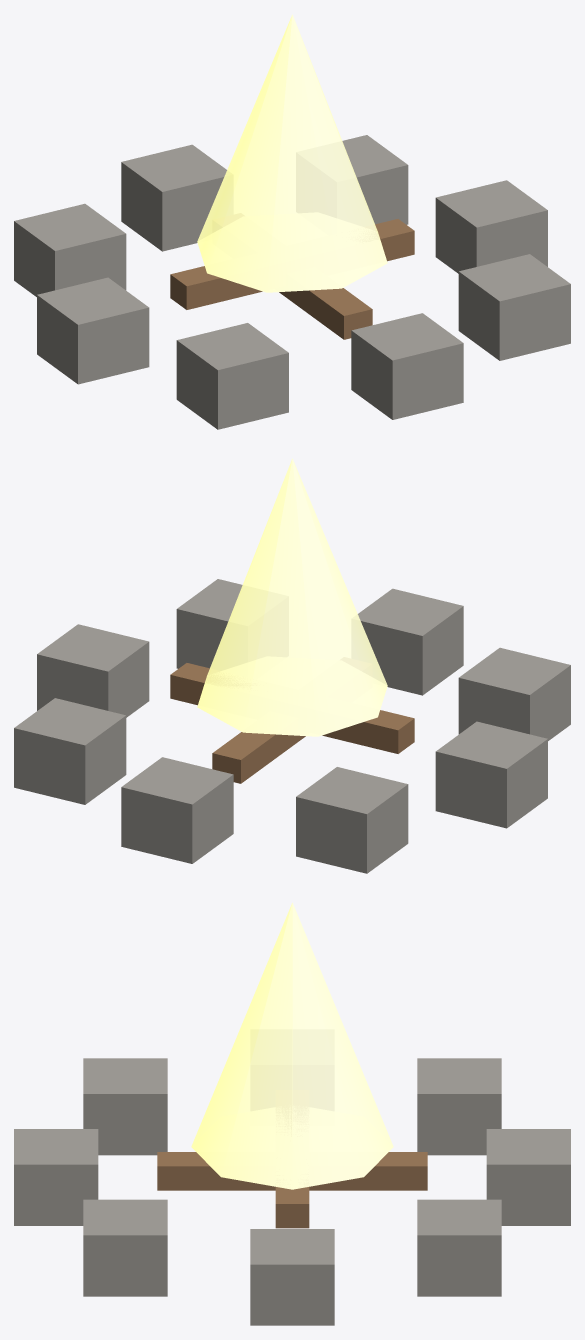
The model's file is campfire.glb.
The picture shows the model from 3 angles, top to bottom: view 1: azimuth 30°, elevation 25°; view 2: azimuth 150°, elevation 25°; view 3: azimuth 270°, elevation 25°; orthographic projection. The views are drawn at different scales.
Visible parts, largest first — view 1: part_10, part_2, part_4, part_1, part_3, part_6, part_0, part_5, part_7, part_9, part_8; view 2: part_10, part_4, part_6, part_7, part_5, part_2, part_0, part_3, part_1, part_9, part_8; view 3: part_10, part_1, part_7, part_0, part_3, part_5, part_2, part_6, part_8, part_9.
Part boxes in pixels (bbox=[...]): part_10: bbox=[197, 14, 387, 292]; part_2: bbox=[351, 313, 463, 419]; part_4: bbox=[37, 277, 149, 384]; part_1: bbox=[458, 254, 570, 360]; part_3: bbox=[176, 323, 288, 429]; part_6: bbox=[121, 144, 227, 251]; part_0: bbox=[435, 180, 547, 273]; part_5: bbox=[14, 203, 126, 296]; part_7: bbox=[342, 135, 408, 224]; part_9: bbox=[170, 219, 414, 309]; part_8: bbox=[279, 288, 372, 339]; part_10: bbox=[197, 458, 387, 736]; part_4: bbox=[435, 721, 547, 828]; part_6: bbox=[121, 757, 233, 863]; part_7: bbox=[14, 698, 126, 804]; part_5: bbox=[296, 767, 408, 873]; part_2: bbox=[357, 588, 463, 695]; part_0: bbox=[37, 624, 149, 717]; part_3: bbox=[458, 647, 570, 740]; part_1: bbox=[176, 579, 242, 668]; part_9: bbox=[170, 663, 414, 753]; part_8: bbox=[212, 732, 305, 783]; part_10: bbox=[191, 902, 393, 1189]; part_1: bbox=[83, 1199, 167, 1296]; part_7: bbox=[417, 1199, 501, 1296]; part_0: bbox=[250, 1229, 334, 1325]; part_3: bbox=[83, 1058, 167, 1155]; part_5: bbox=[417, 1058, 501, 1155]; part_2: bbox=[14, 1129, 98, 1225]; part_6: bbox=[486, 1129, 570, 1225]; part_8: bbox=[157, 1152, 427, 1190]; part_9: bbox=[275, 1187, 309, 1228].
Bounding box in the file's own units: 1.65 × 1 × 1.65.
